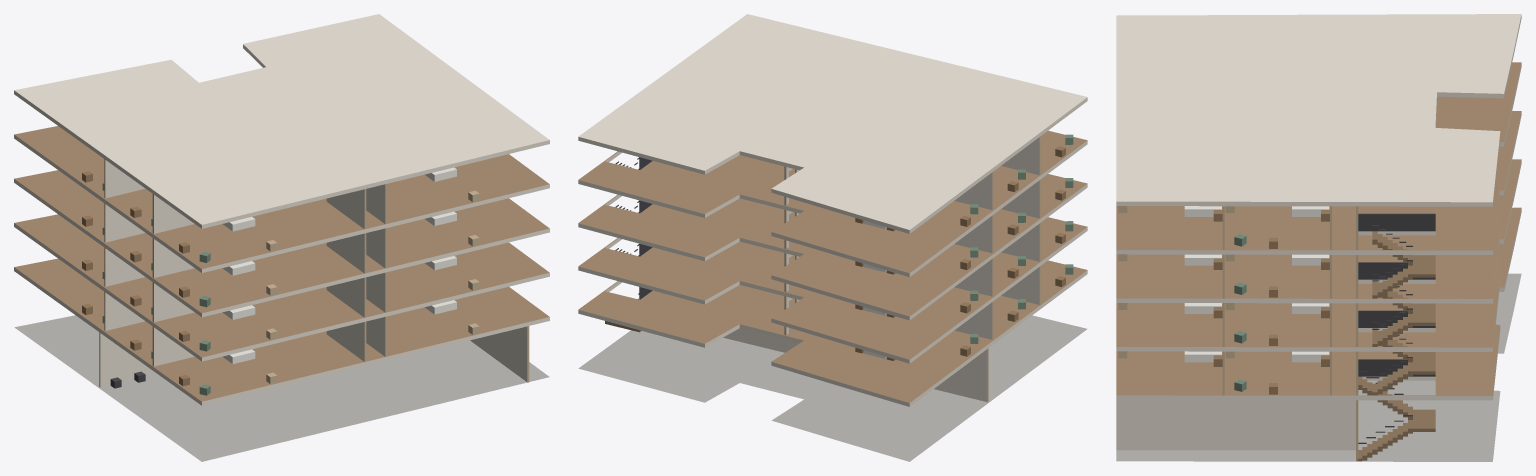
Rendered from interior.glb.
3 renders of one model, left to right at view 1: azimuth 30°, elevation 25°; view 2: azimuth 150°, elevation 25°; view 3: azimuth 270°, elevation 25°, orthographic. The views are drawn at different scales.
Parts seen in each view (by area): view 1: slabs, partitions, coarse-s2, coarse-s3, coarse-s4, coarse-s1; view 2: slabs, partitions, coarse-s4, coarse-s1, coarse-s3, coarse-s2, stair; view 3: slabs, partitions, stair, coarse-s3, coarse-s1, coarse-s4, coarse-s2.
Boxes of the visible parts, x1,y1,x2,y2 form: slabs: [14, 14, 549, 461]; partitions: [99, 159, 529, 387]; coarse-s2: [82, 256, 479, 351]; coarse-s3: [82, 211, 479, 307]; coarse-s4: [82, 167, 479, 262]; coarse-s1: [82, 300, 479, 395]; slabs: [578, 14, 1087, 461]; partitions: [723, 136, 1040, 402]; coarse-s4: [855, 134, 1073, 231]; coarse-s1: [855, 264, 1073, 360]; coarse-s3: [855, 178, 1073, 274]; coarse-s2: [855, 221, 1073, 317]; stair: [605, 157, 652, 332]; slabs: [1116, 14, 1521, 461]; partitions: [1116, 206, 1358, 461]; stair: [1357, 213, 1435, 461]; coarse-s3: [1118, 254, 1329, 297]; coarse-s1: [1118, 351, 1329, 394]; coarse-s4: [1118, 206, 1329, 248]; coarse-s2: [1118, 303, 1329, 345].
Size of the model in its own units: 23.75 by 15.3 by 21.61.
